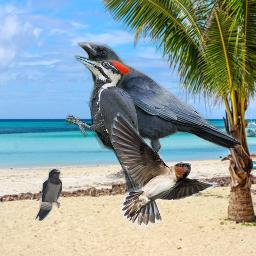Crow: (77, 42, 241, 181)
Swallow: (110, 112, 223, 228), (35, 169, 62, 221)
Woodpecker: (66, 55, 148, 206)
